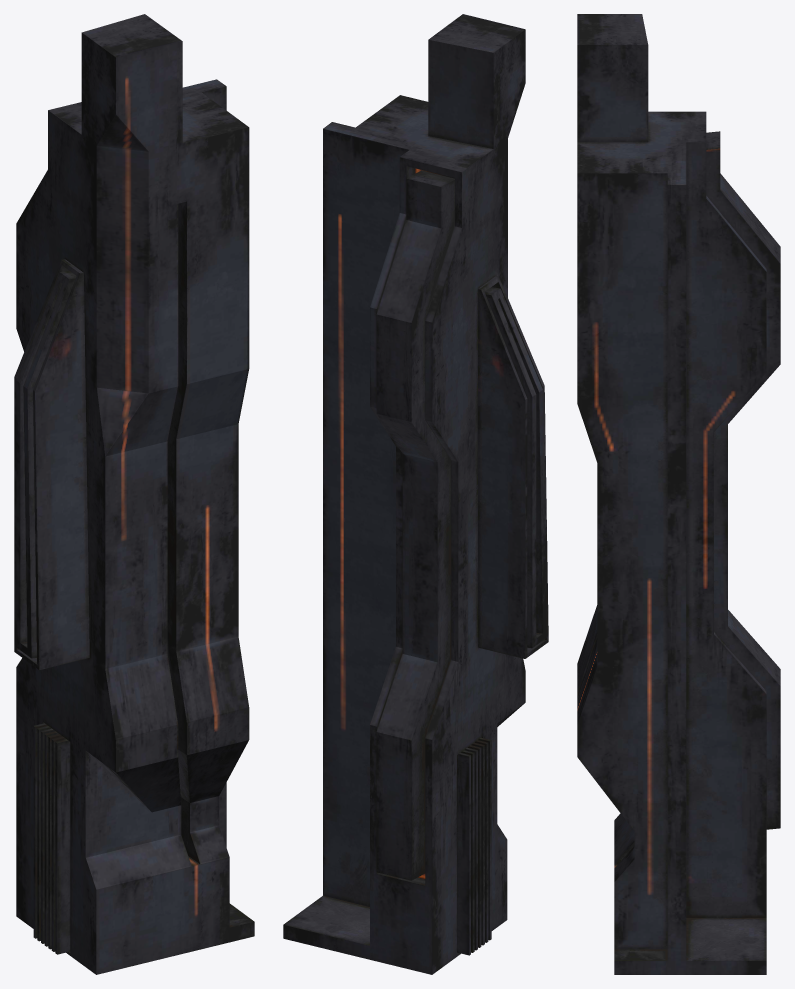
The picture shows the model from 3 angles, left to right: view 1: azimuth 30°, elevation 25°; view 2: azimuth 150°, elevation 25°; view 3: azimuth 270°, elevation 25°; orthographic projection. The views are drawn at different scales.
Visible parts, largest first — view 1: SB_03; view 2: SB_03; view 3: SB_03.
Part boxes in pixels (bbox=[...]): SB_03: bbox=[14, 14, 254, 974]; SB_03: bbox=[283, 14, 548, 974]; SB_03: bbox=[577, 14, 780, 974].
Bounding box in the file's own units: 1793 × 7544 × 1567.
Materials: 1 (1 with a texture image).
